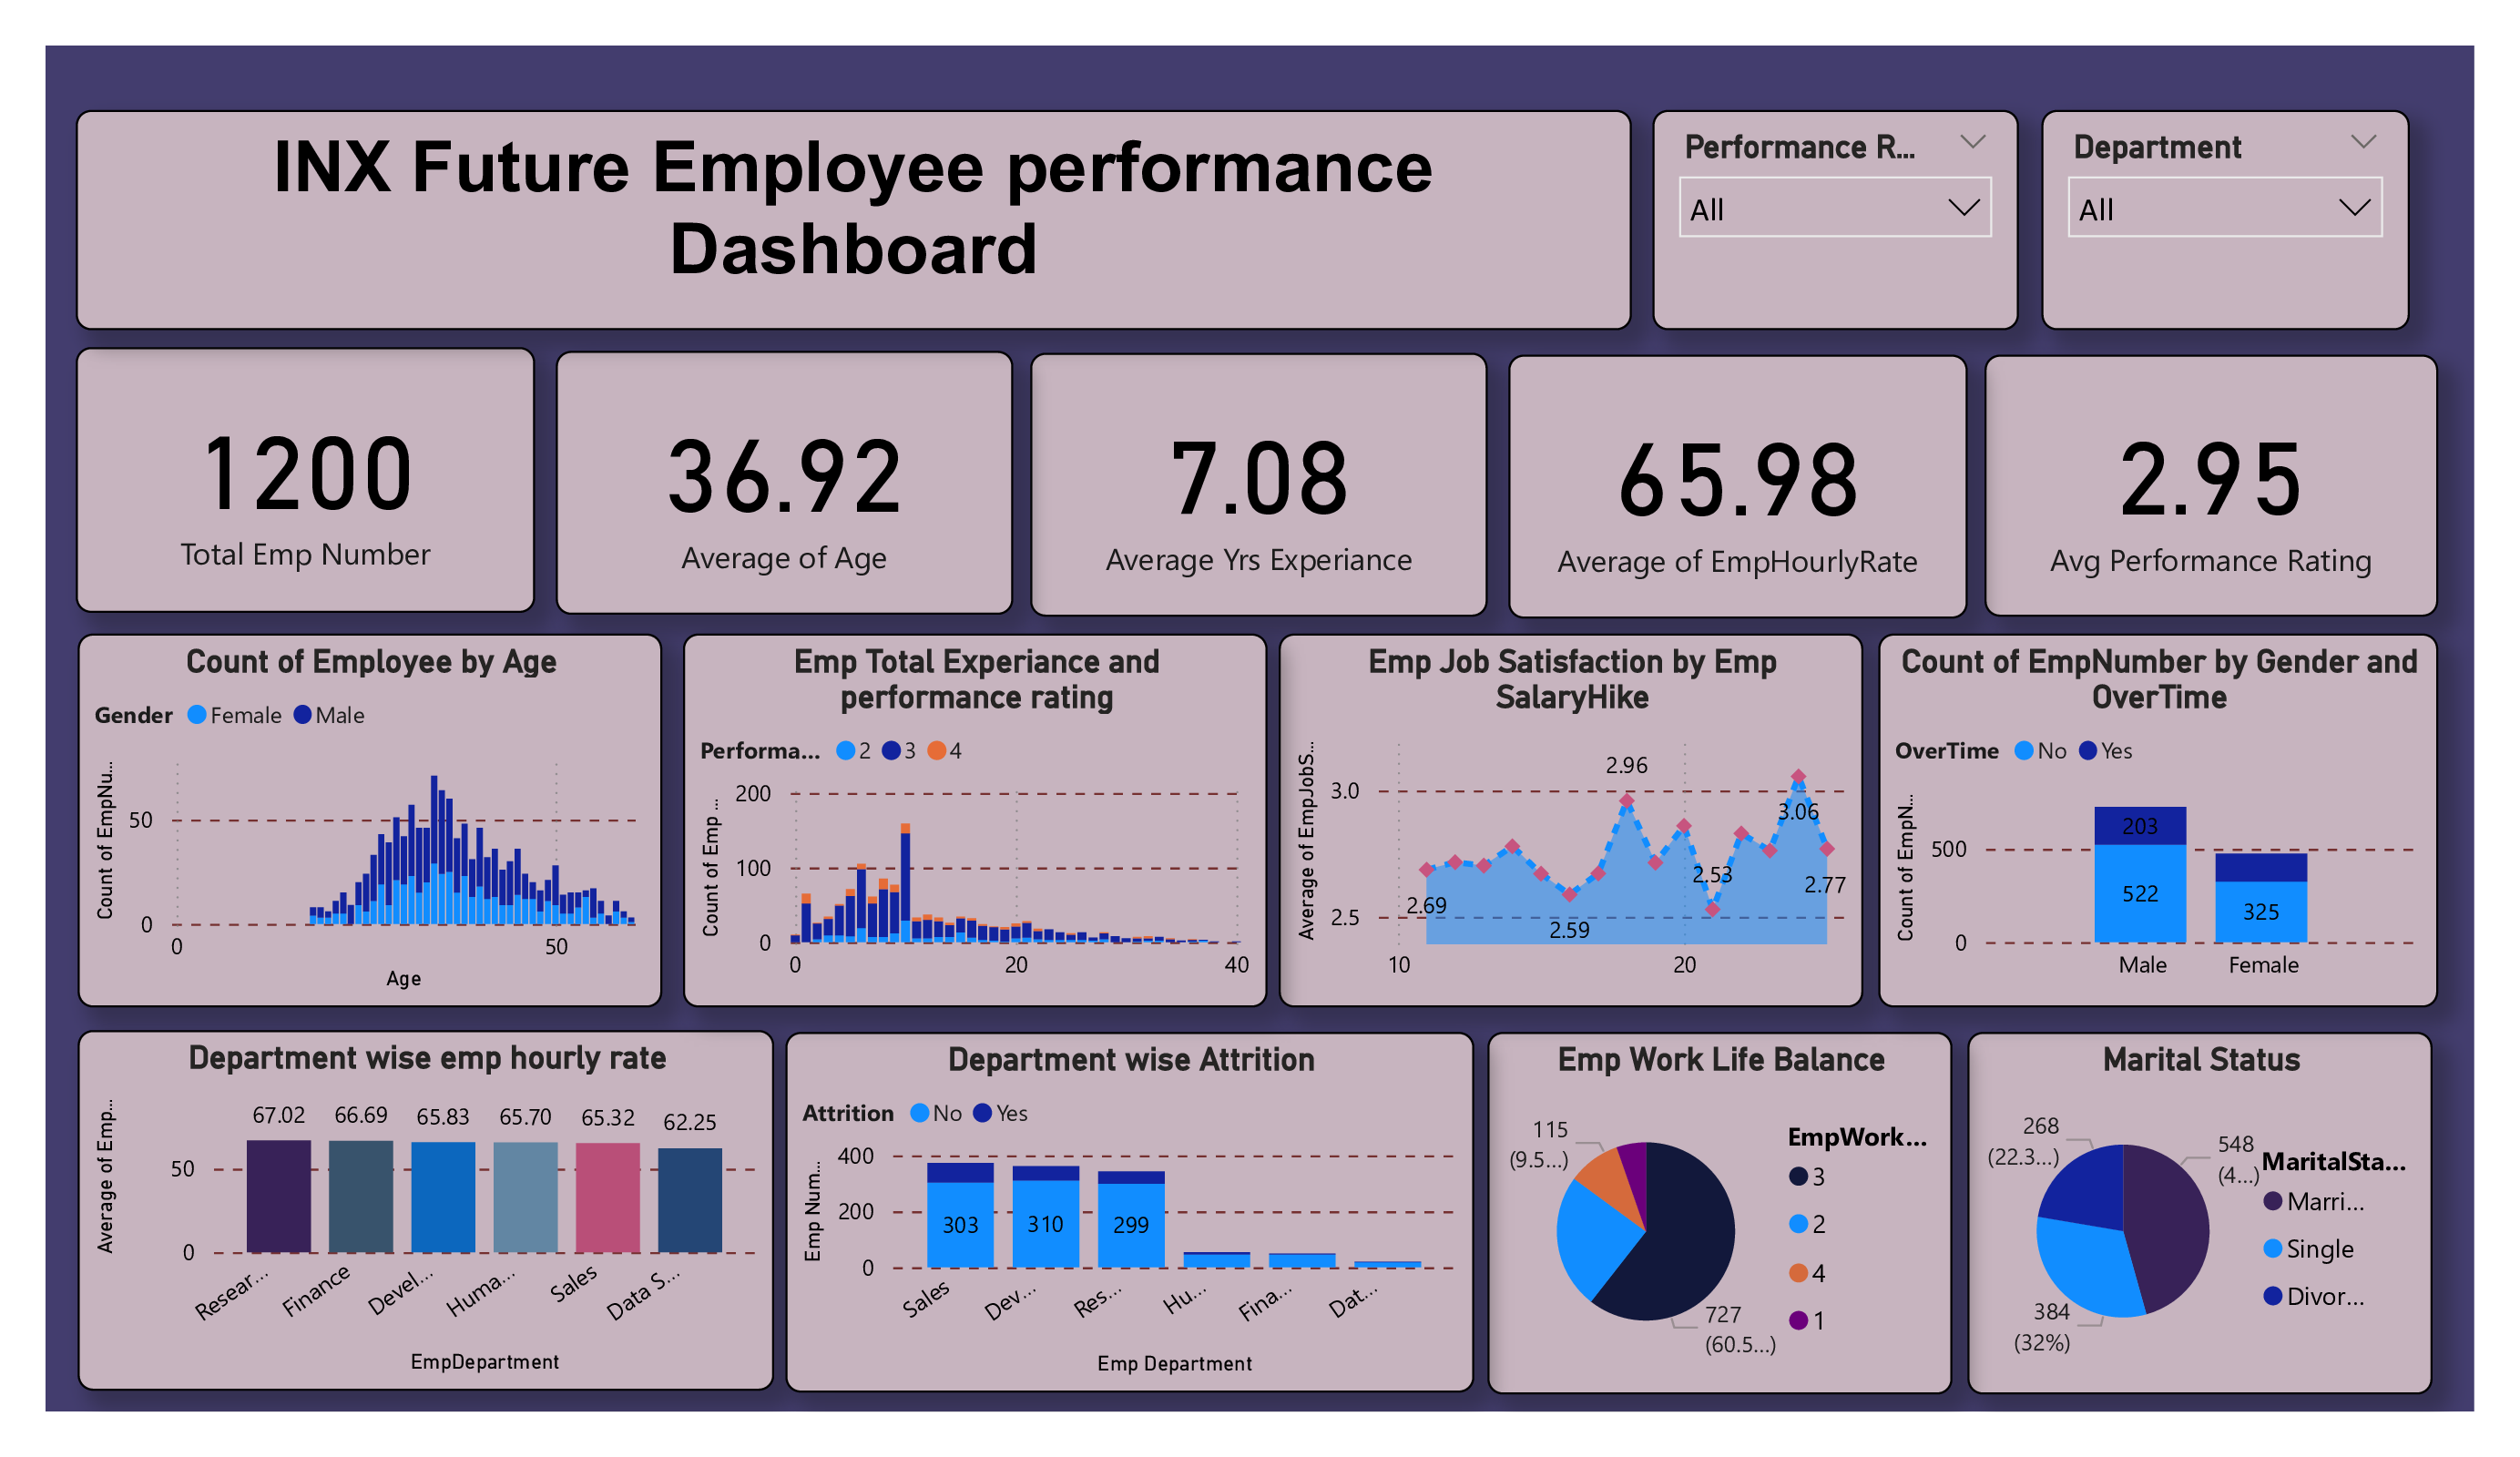

The dashboard page shown, as its layout file describes it:
{"tool":"powerbi","page":{"name":"Page 1","canvas":[1280,720],"ordinal":0},"visuals":[{"type":"card","fields":{"Values":["Count(INX_Future_Inc_Employee_Perform.EmpNumber)"]},"box":[16.5,159.2,241.5,140],"z":0},{"type":"card","fields":{"Values":["Avg(INX_Future_Inc_Employee_Perform.ExperienceYearsAtThisCompany)"]},"box":[518.7,161.9,241.5,139],"z":1000},{"type":"card","fields":{"Values":["Avg(INX_Future_Inc_Employee_Perform.Age)"]},"box":[269,160.5,241.5,139],"z":2000},{"type":"textbox","box":[16.5,34.3,819.2,115.3],"z":3000},{"type":"slicer","fields":{"Values":["INX_Future_Inc_Employee_Perform.PerformanceRating"]},"box":[846.7,34.3,193,115.3],"z":4000},{"type":"slicer","fields":{"Values":["INX_Future_Inc_Employee_Perform.EmpDepartment"]},"box":[1052.5,34.3,193.5,115.3],"z":5000},{"type":"columnChart","title":"Count of Employee by Age","fields":{"Category":["INX_Future_Inc_Employee_Perform.Age"],"Y":["CountNonNull(INX_Future_Inc_Employee_Perform.EmpNumber)"],"Series":["INX_Future_Inc_Employee_Perform.Gender"]},"box":[17.1,310,308,197.1],"z":6000},{"type":"columnChart","title":"Department wise emp hourly rate","fields":{"Category":["INX_Future_Inc_Employee_Perform.EmpDepartment"],"Y":["Avg(INX_Future_Inc_Employee_Perform.EmpHourlyRate)"]},"box":[17.1,518.6,367,190],"z":7000},{"type":"pieChart","title":" Marital Status ","fields":{"Category":["INX_Future_Inc_Employee_Perform.MaritalStatus"],"Y":["CountNonNull(INX_Future_Inc_Employee_Perform.MaritalStatus)"]},"box":[1012.7,520.1,245,191],"z":8000},{"type":"pieChart","title":"Emp Work Life Balance","fields":{"Y":["CountNonNull(INX_Future_Inc_Employee_Perform.EmpNumber)"],"Category":["INX_Future_Inc_Employee_Perform.EmpWorkLifeBalance"]},"box":[760,520,245,191.4],"z":9000},{"type":"card","fields":{"Values":["Avg(INX_Future_Inc_Employee_Perform.PerformanceRating)"]},"box":[1022.3,163.3,239,138],"z":10000},{"type":"card","fields":{"Values":["Avg(INX_Future_Inc_Employee_Perform.EmpHourlyRate)"]},"box":[771.2,163.3,241.5,138.6],"z":11000},{"type":"areaChart","title":" Emp Job Satisfaction by Emp SalaryHike","fields":{"Category":["INX_Future_Inc_Employee_Perform.EmpLastSalaryHikePercent"],"Y":["Avg(INX_Future_Inc_Employee_Perform.EmpJobSatisfaction)"]},"box":[650,310,308,197.1],"z":12000},{"type":"columnChart","title":"Department wise Attrition","fields":{"Category":["INX_Future_Inc_Employee_Perform.EmpDepartment"],"Series":["INX_Future_Inc_Employee_Perform.Attrition"],"Y":["CountNonNull(INX_Future_Inc_Employee_Perform.EmpNumber)"]},"box":[390,520,363,190],"z":13000},{"type":"columnChart","title":"Emp Total Experiance  and performance rating","fields":{"Category":["INX_Future_Inc_Employee_Perform.TotalWorkExperienceInYears"],"Y":["CountNonNull(INX_Future_Inc_Employee_Perform.EmpNumber)"],"Series":["INX_Future_Inc_Employee_Perform.PerformanceRating"]},"box":[335.7,310,308,197.1],"z":14000},{"type":"columnChart","fields":{"Category":["INX_Future_Inc_Employee_Perform.Gender"],"Series":["INX_Future_Inc_Employee_Perform.OverTime"],"Y":["CountNonNull(INX_Future_Inc_Employee_Perform.EmpNumber)"]},"box":[965.7,310,295.7,197.1],"z":15000}]}

Visuals, with their boxes in screenshot pixels (x1, y1, x2, y2):
card - Count(INX_Future_Inc_Employee_Perform.EmpNumber): <box>77,348,536,613</box>
card - Avg(INX_Future_Inc_Employee_Perform.ExperienceYearsAtThisCompany): <box>1030,352,1488,616</box>
card - Avg(INX_Future_Inc_Employee_Perform.Age): <box>556,350,1015,614</box>
textbox: <box>77,110,1631,330</box>
slicer - INX_Future_Inc_Employee_Perform.PerformanceRating: <box>1652,110,2018,330</box>
slicer - INX_Future_Inc_Employee_Perform.EmpDepartment: <box>2043,110,2410,330</box>
"Count of Employee by Age" columnChart: <box>78,634,662,1007</box>
"Department wise emp hourly rate" columnChart: <box>78,1029,774,1390</box>
" Marital Status " pieChart: <box>1967,1033,2433,1394</box>
"Emp Work Life Balance" pieChart: <box>1488,1032,1953,1395</box>
card - Avg(INX_Future_Inc_Employee_Perform.PerformanceRating): <box>1985,355,2439,617</box>
card - Avg(INX_Future_Inc_Employee_Perform.EmpHourlyRate): <box>1509,355,1967,618</box>
" Emp Job Satisfaction by Emp SalaryHike" areaChart: <box>1279,634,1863,1007</box>
"Department wise Attrition" columnChart: <box>786,1032,1474,1392</box>
"Emp Total Experiance  and performance rating" columnChart: <box>682,634,1267,1007</box>
columnChart - INX_Future_Inc_Employee_Perform.Gender x INX_Future_Inc_Employee_Perform.OverTime: <box>1878,634,2439,1007</box>
